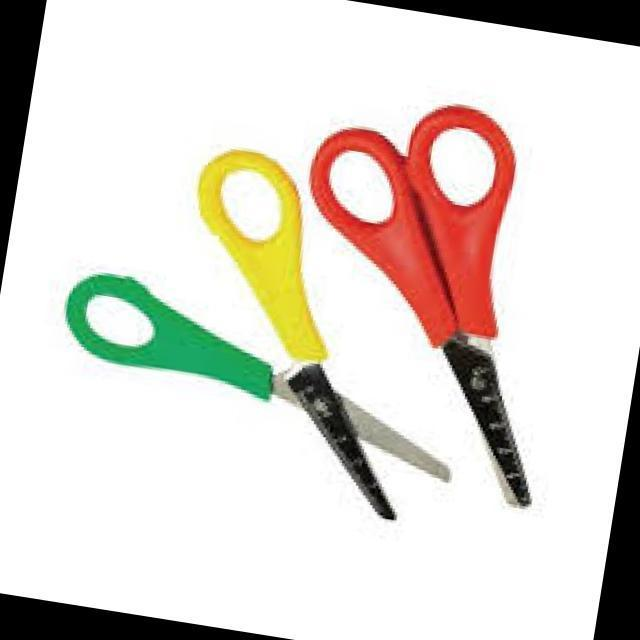scissors: (277, 68, 640, 542), (101, 81, 444, 538)
